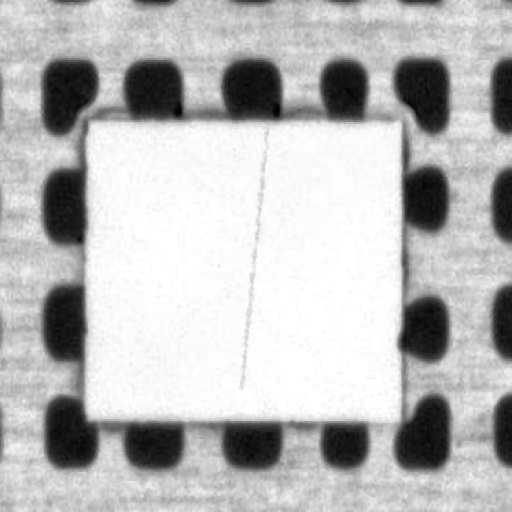DIE_CRACK: (319, 94, 353, 290)
